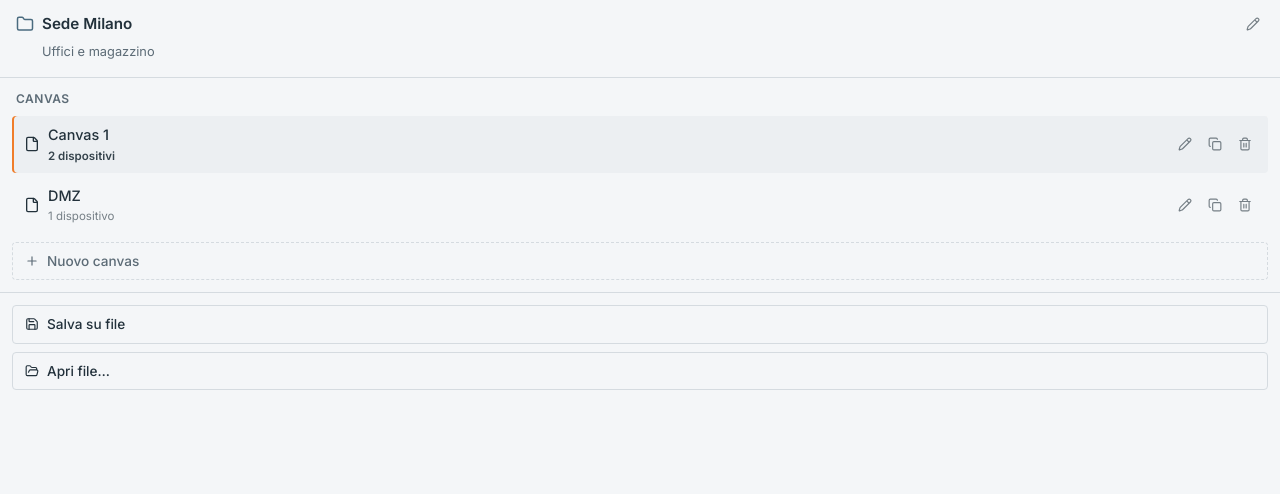
Test: ExplorerPanel › canvases › adds a canvas: Enter confirms, the canvas on screen stays
The width and height of the screenshot is (1280, 494).
Click the button "Nuovo canvas": (93, 261) 12,242 -> 1268,280
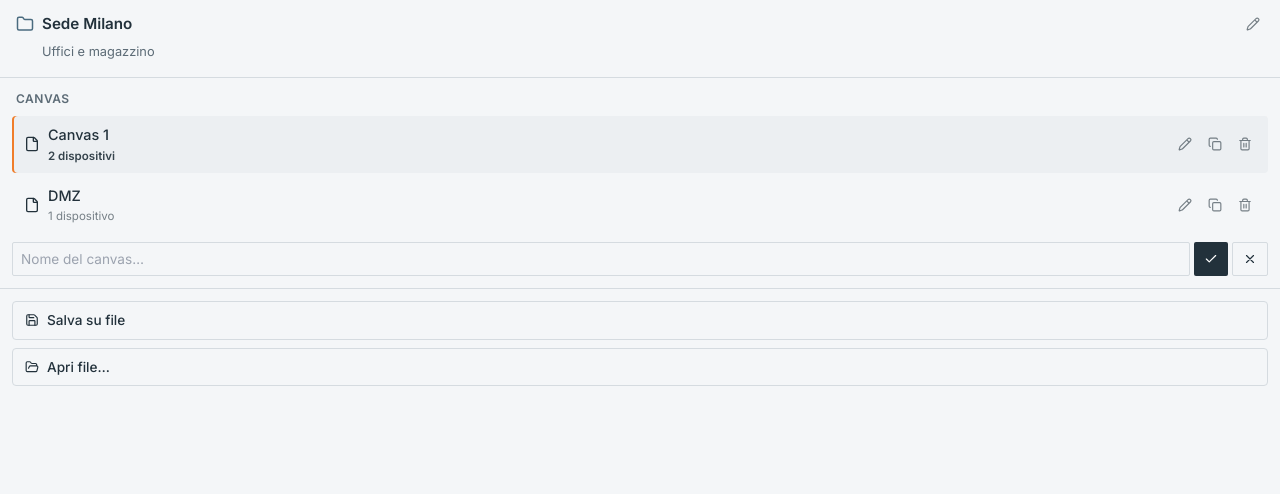
In the field named "Nome del nuovo canvas": (601, 259) 12,242 -> 1190,276, type "Sala server"
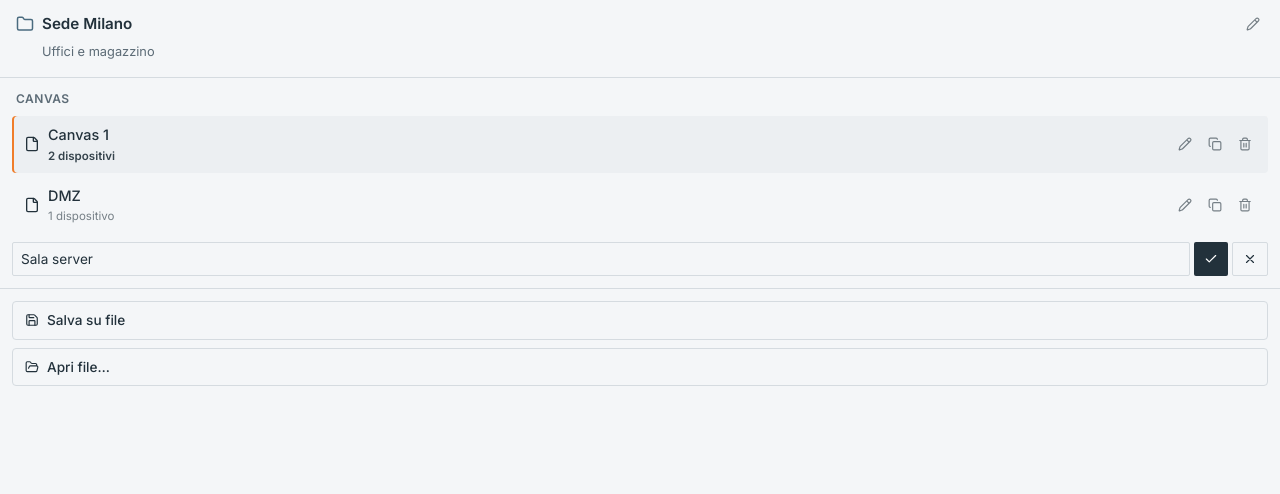
Press Enter in the field named "Nome del nuovo canvas", box 12,242 -> 1190,276
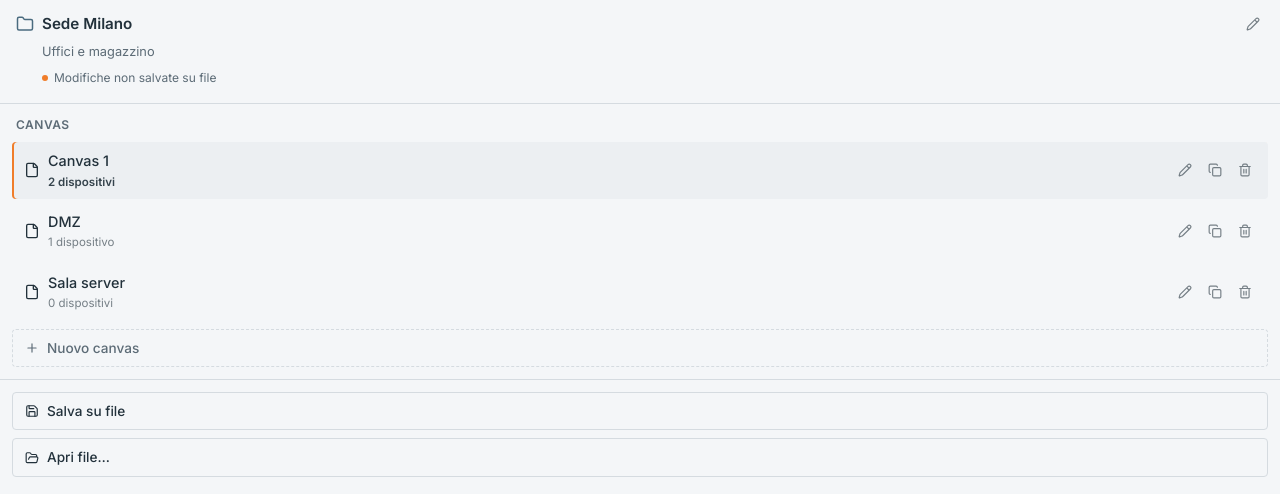
expect the text "0 dispositivi" is shown: met, box 48,296 -> 113,310
